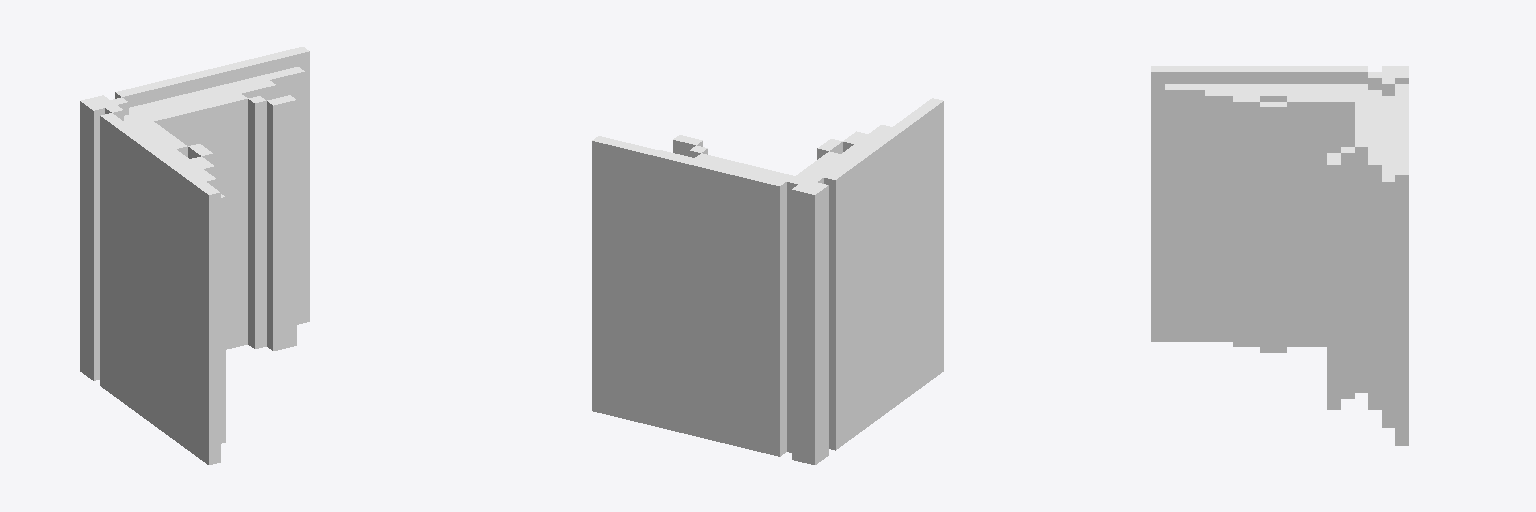
File: BookTunnel.obj
3 renders of one model, left to right at view 1: azimuth 30°, elevation 25°; view 2: azimuth 150°, elevation 25°; view 3: azimuth 270°, elevation 25°, orthographic.
Size of the model in its own units: 19 by 22 by 19.